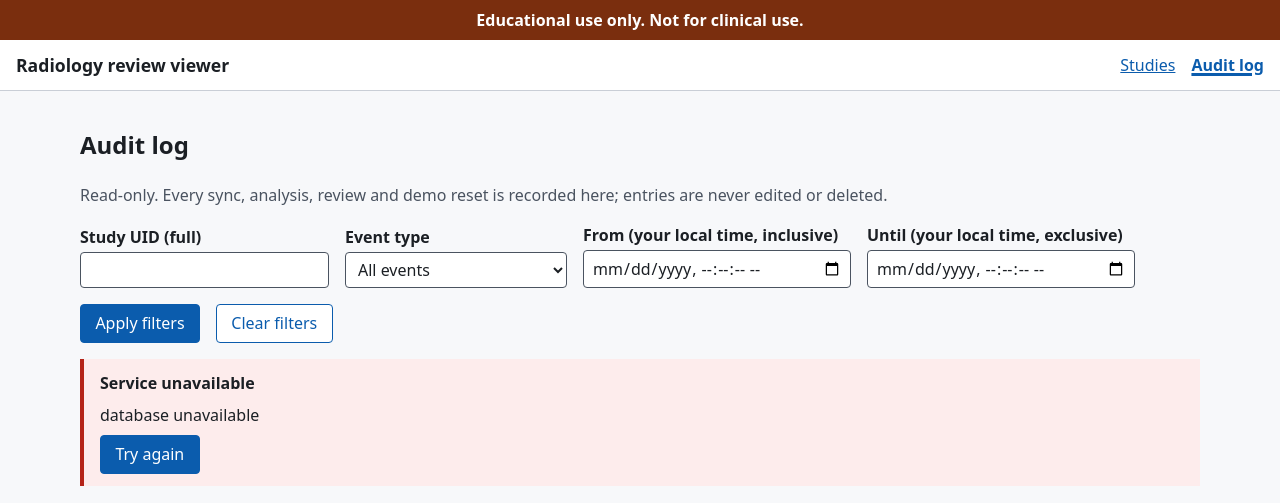
Test case: audit page › shows an API error with a retry
Expected: the message shows "Service unavailable", [100,372,255,394]
Click the button "Try again": (150, 454) [100,435,200,474]
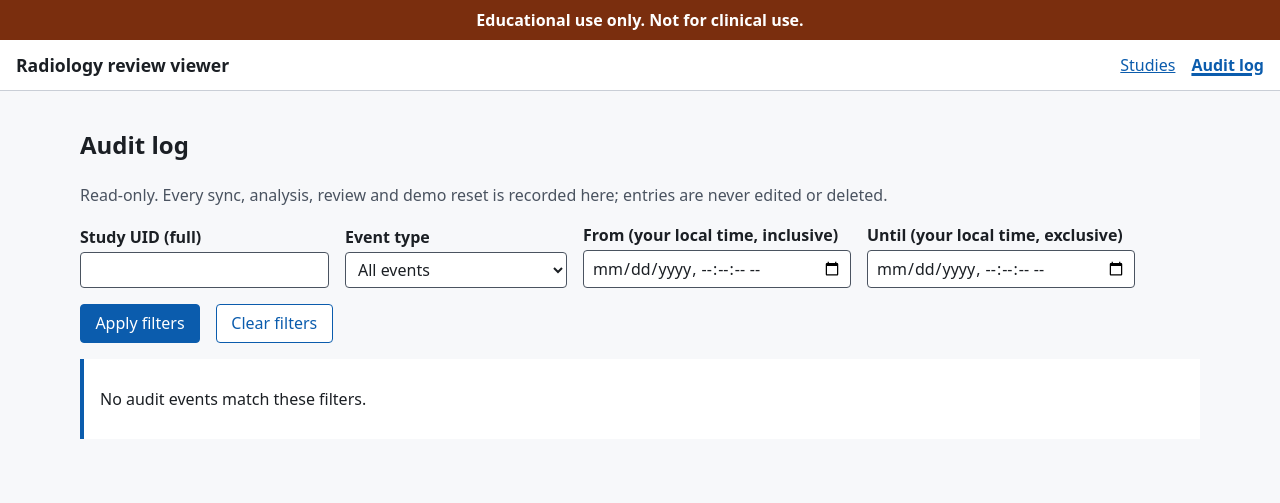
Result: the text "No audit events match these filters." is shown at [100,388,366,410]
